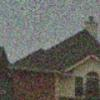chimneys: (84, 16, 98, 41)
